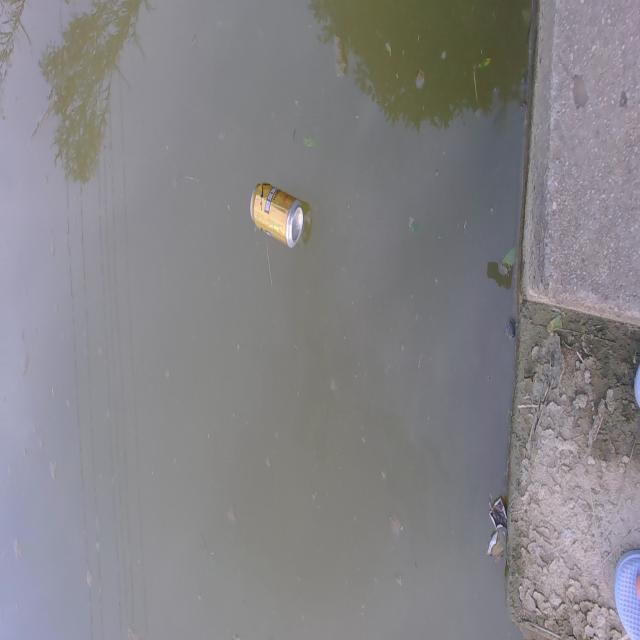garbage: (249, 181, 305, 249)
